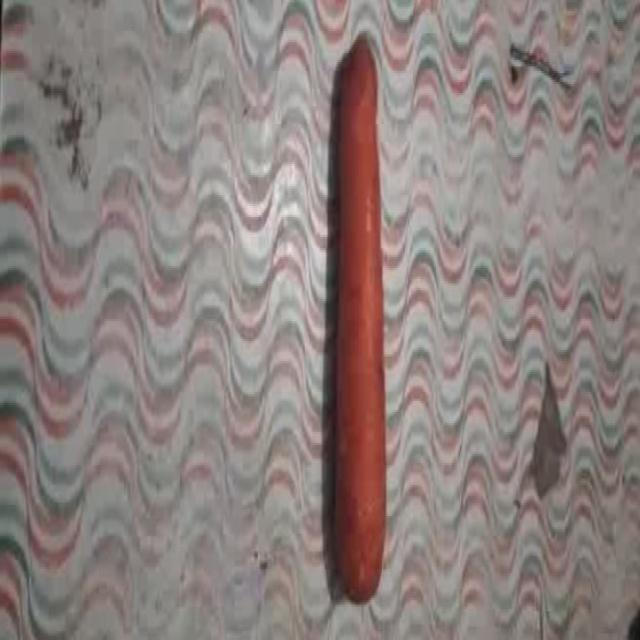carrot: (335, 40, 385, 601)
